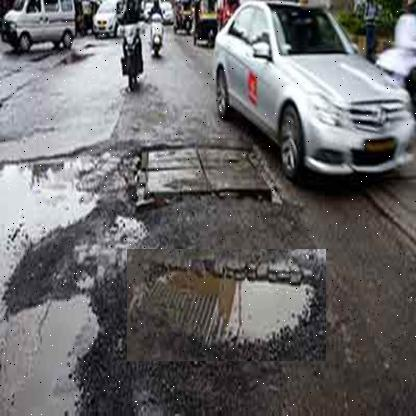pothole_water: (0, 126, 168, 264), (126, 249, 326, 362), (0, 282, 112, 415)
